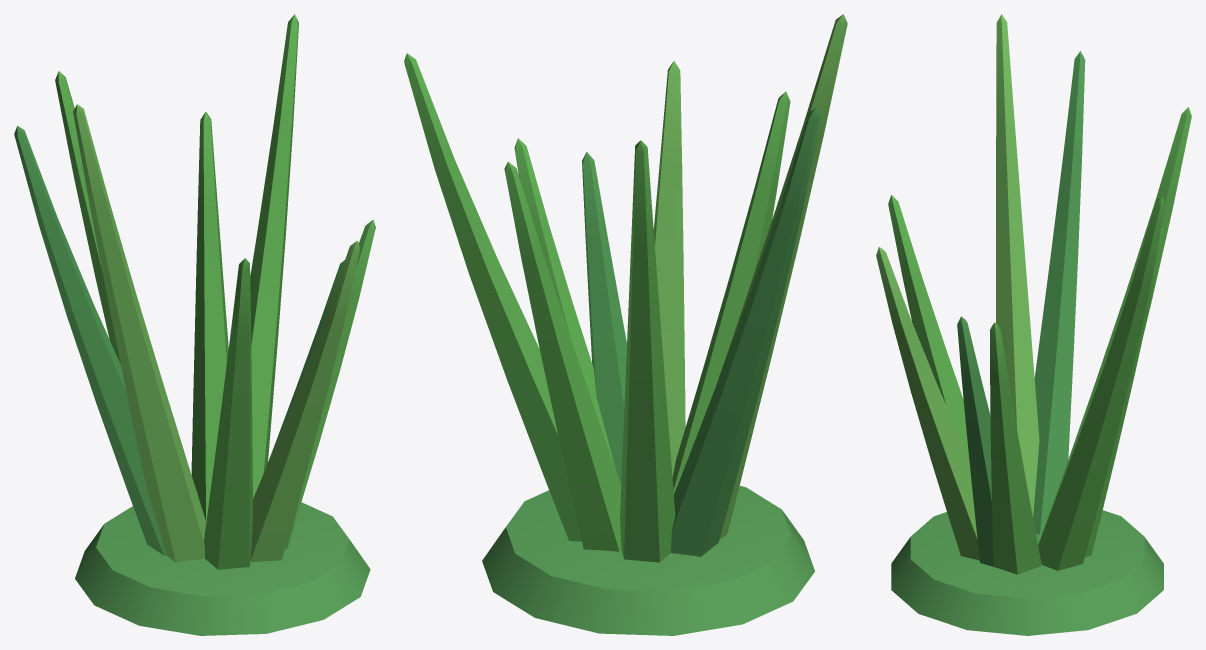
File: Toy_GrassTuft.fbx
The picture shows the model from 3 angles, left to right: view 1: azimuth 30°, elevation 25°; view 2: azimuth 150°, elevation 25°; view 3: azimuth 270°, elevation 25°; orthographic projection. The views are drawn at different scales.
Parts seen in each view (by area): view 1: Toy_GrassTuft; view 2: Toy_GrassTuft; view 3: Toy_GrassTuft.
Boxes of the visible parts, left/top/right/bottom form: Toy_GrassTuft: left=14, top=14, right=375, bottom=635; Toy_GrassTuft: left=404, top=14, right=847, bottom=635; Toy_GrassTuft: left=876, top=14, right=1191, bottom=635.
Bounding box in the file's own units: 0.0888 × 0.1375 × 0.079.
